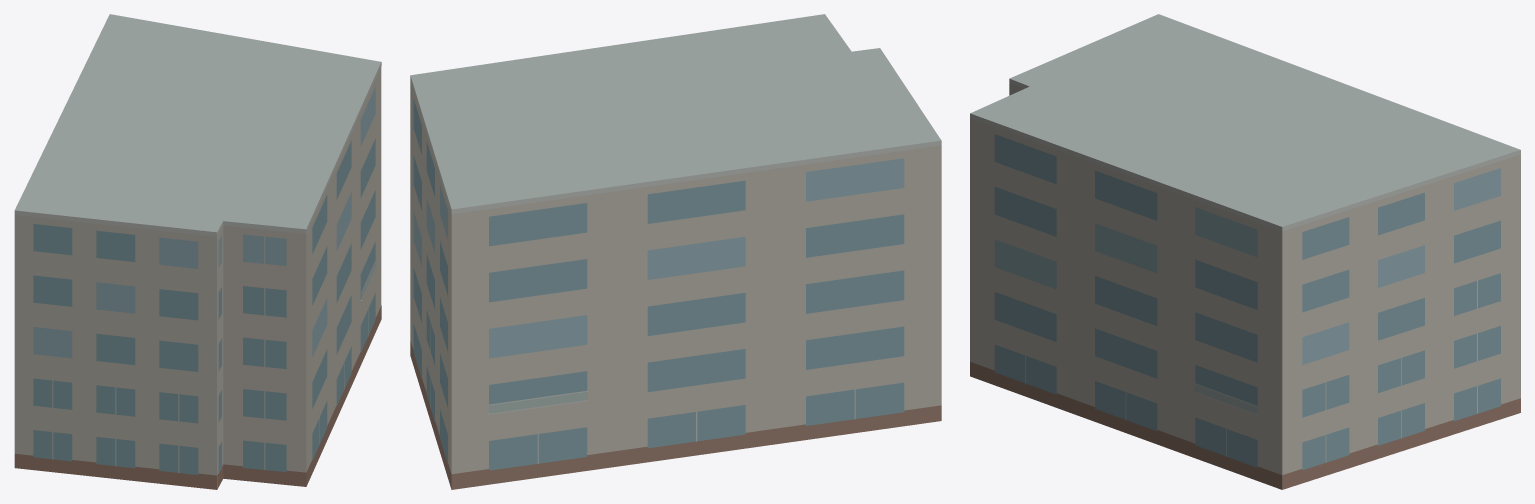
Rendered from survey-upis-33020841.glb.
3 views of the same model, side by side, from view 1: azimuth 30°, elevation 25°; view 2: azimuth 150°, elevation 25°; view 3: azimuth 270°, elevation 25° (orthographic). The views are drawn at different scales.
Parts seen in each view (by area): view 1: survey-upis-33020841.tmp; view 2: survey-upis-33020841.tmp; view 3: survey-upis-33020841.tmp.
Boxes of the visible parts, <box> form: survey-upis-33020841.tmp: <box>14,14,381,489</box>; survey-upis-33020841.tmp: <box>410,14,941,489</box>; survey-upis-33020841.tmp: <box>970,14,1520,489</box>.
Bounding box in the file's own units: 24.58 × 14.15 × 26.87.
